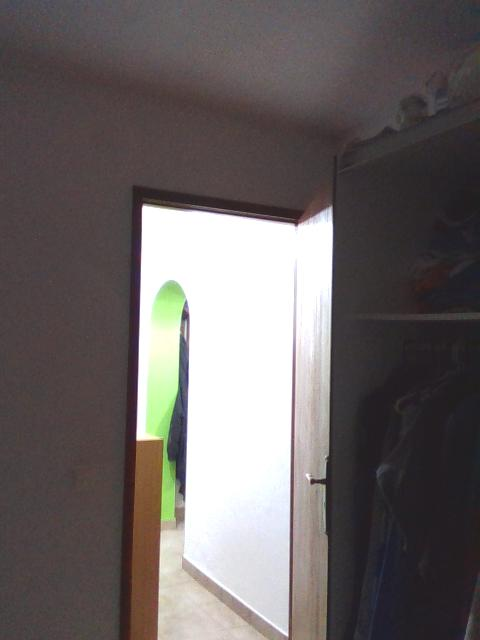open_door: (121, 175, 313, 639)
